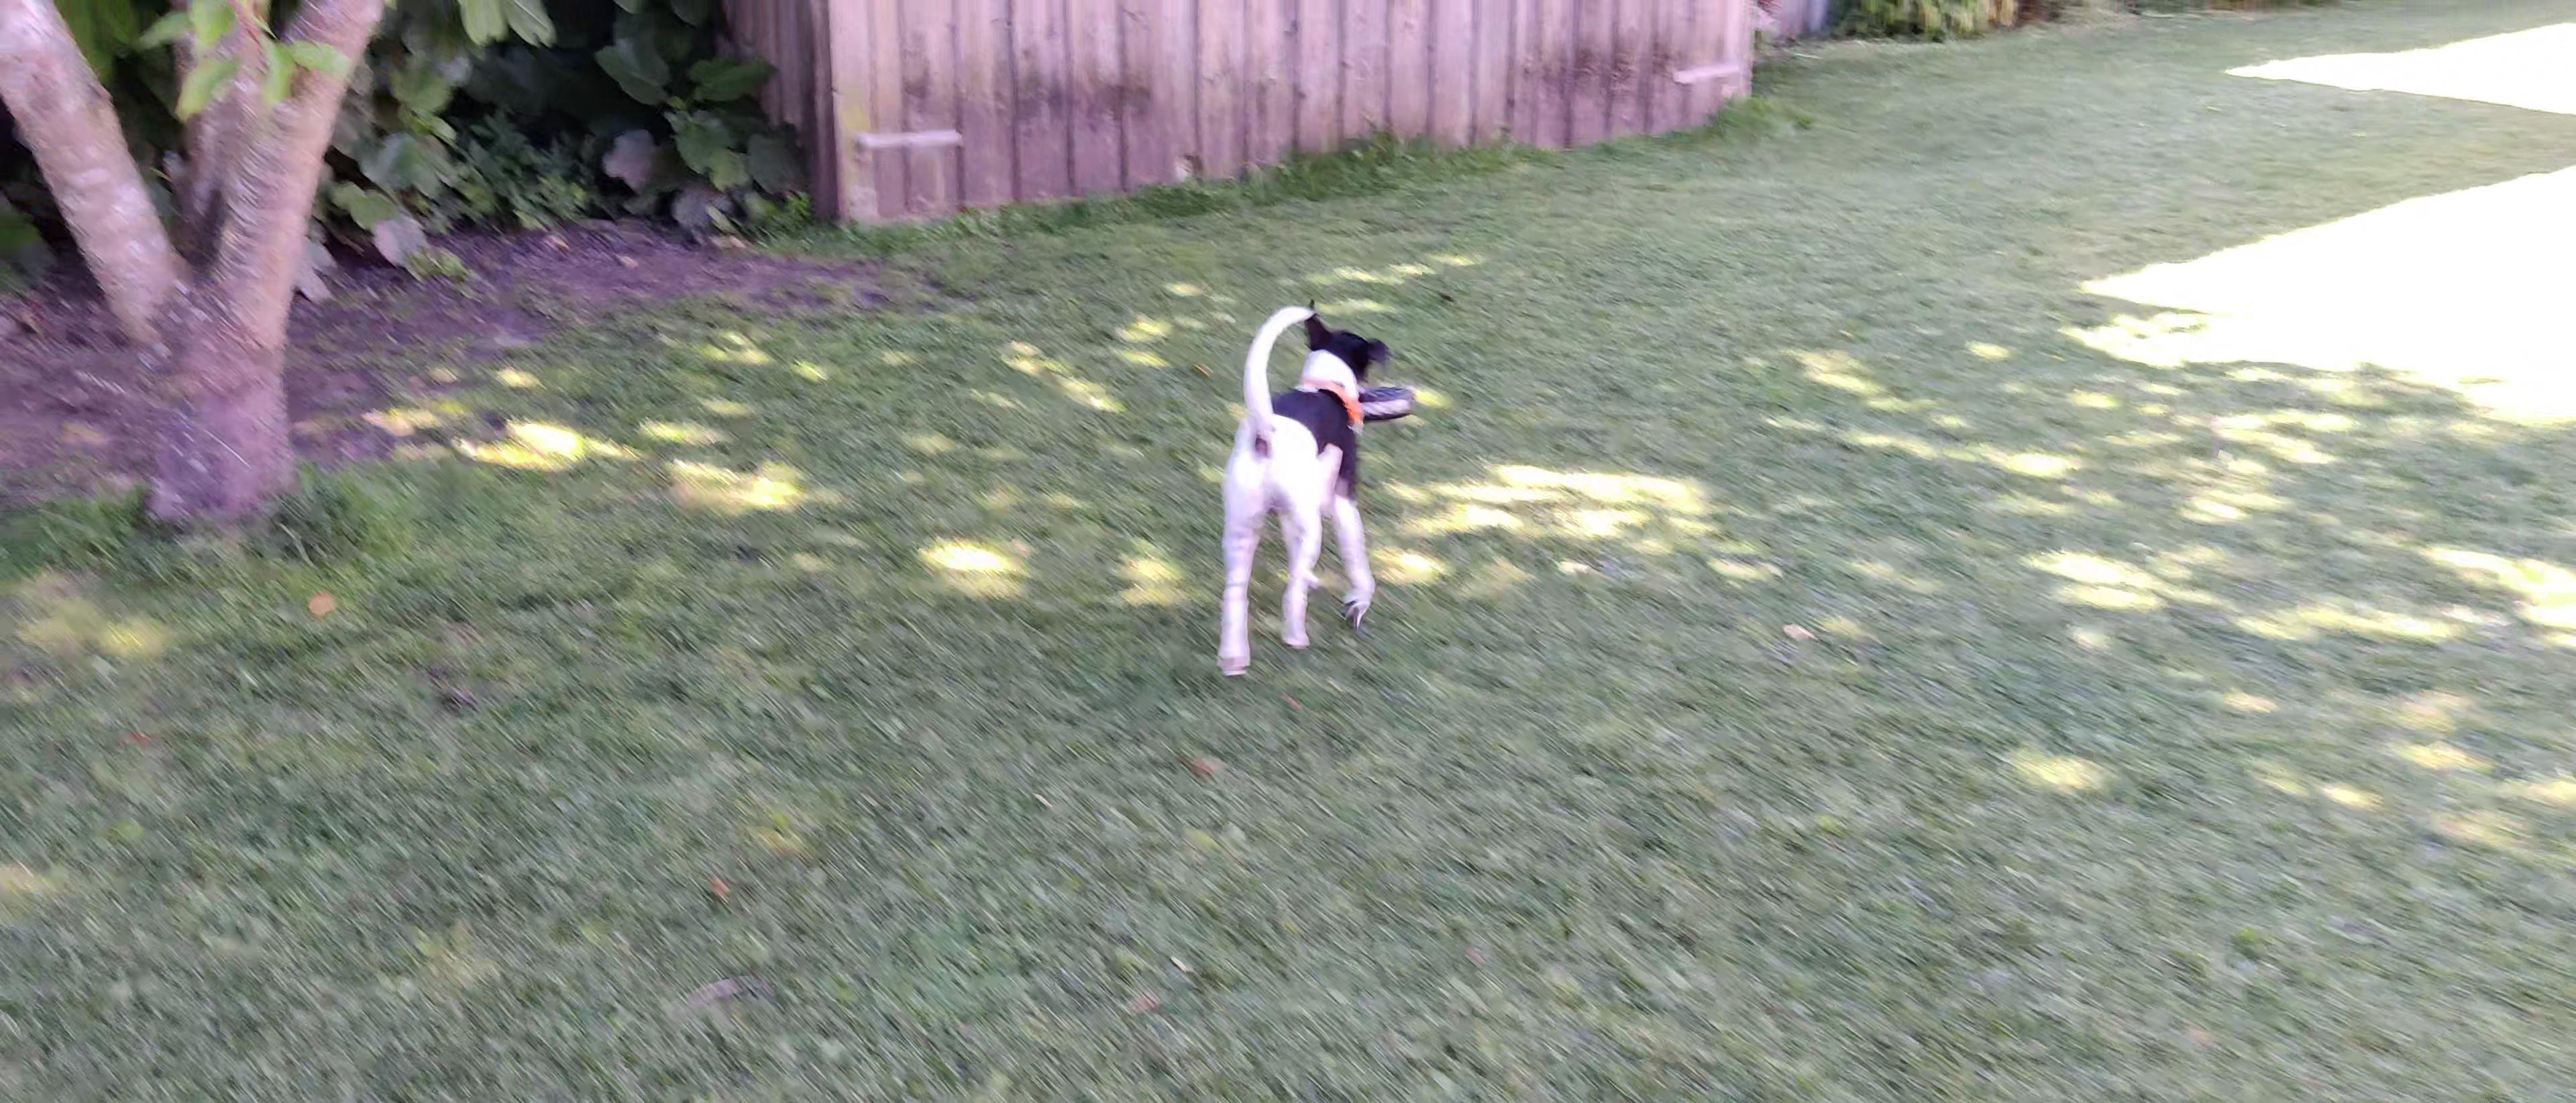Dog: (1212, 289, 1390, 684)
